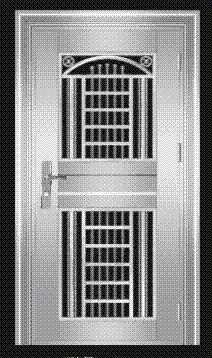door: (29, 24, 186, 344)
